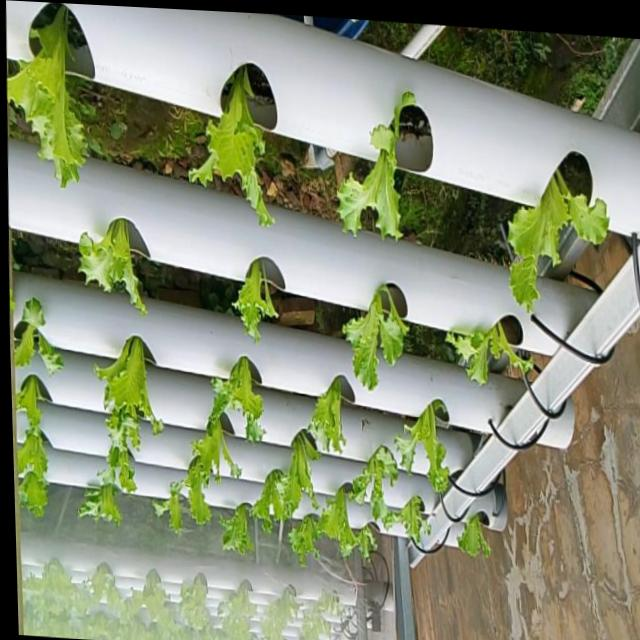Baby: (508, 162, 608, 305), (7, 3, 86, 181), (189, 59, 273, 220), (337, 85, 415, 233), (343, 281, 408, 387), (80, 215, 146, 312), (172, 411, 242, 502), (446, 319, 537, 384), (264, 426, 321, 518), (395, 396, 450, 490), (205, 475, 264, 560), (100, 333, 155, 417), (318, 483, 377, 558), (349, 441, 399, 524), (15, 295, 64, 373), (233, 256, 277, 339), (105, 383, 146, 472), (224, 354, 263, 438), (308, 372, 346, 450), (384, 493, 432, 546), (18, 428, 48, 509), (152, 478, 191, 534), (78, 482, 122, 525), (288, 512, 321, 565), (457, 515, 491, 557)
